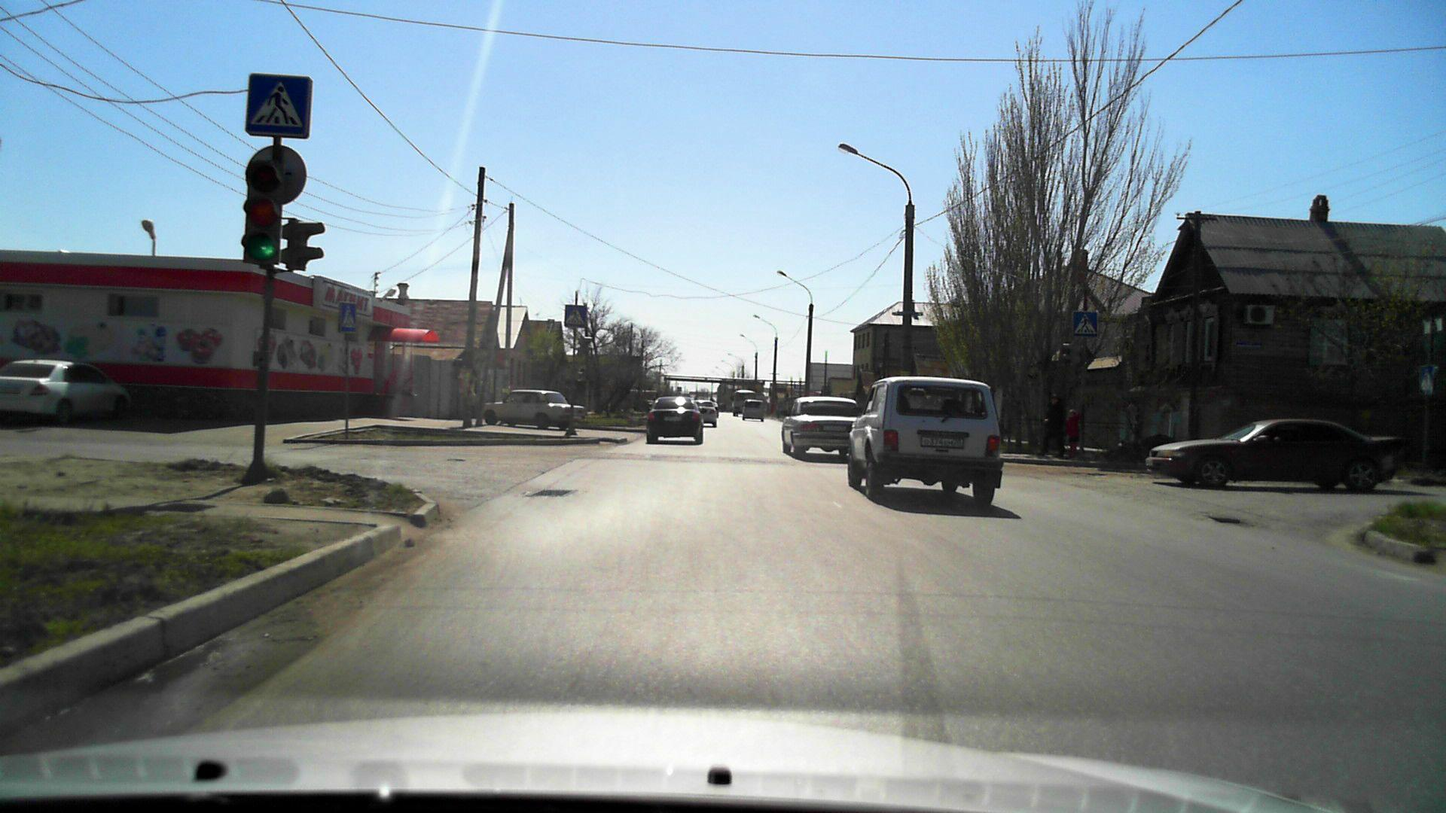off traffic light: (282, 220, 326, 272)
road_sign: (243, 71, 314, 140), (240, 195, 283, 264), (1073, 310, 1099, 337), (339, 302, 358, 333), (565, 305, 587, 327)
